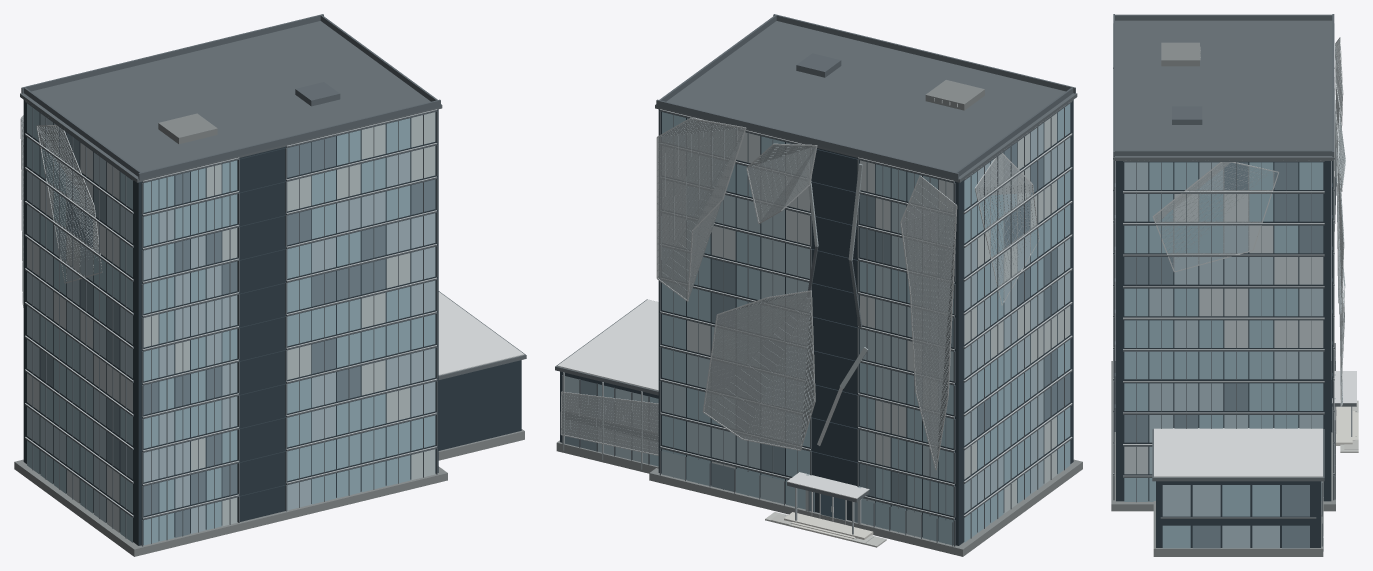
File: kwara_revenue_house.glb
The picture shows the model from 3 angles, left to right: view 1: azimuth 30°, elevation 25°; view 2: azimuth 150°, elevation 25°; view 3: azimuth 270°, elevation 25°; orthographic projection. The views are drawn at different scales.
Parts seen in each view (by area): view 1: structure_roof_slab__roof, structure_tower_core__core, window_rear_right_curtainwall__glass_blue, core_rear_recess__core, window_rear_left_curtainwall__glass_blue, window_west_curtainwall__glass_blue, window_rear_right_curtainwall__glass_mid, window_west_curtainwall__glass_mid, window_rear_left_curtainwall__glass_mid, window_rear_right_curtainwall__glass_light, window_rear_right_curtainwall__glass_dark, window_west_curtainwall__glass_light (+22 smaller); view 2: structure_roof_slab__roof, structure_tower_core__core, roof_detail_lower_center_right_screen_faceted_skin__screen_s, core_front_recess__core, window_west_curtainwall__glass_blue, window_front_right_curtainwall__glass_blue, window_front_right_curtainwall__glass_mid, window_west_curtainwall__glass_mid, roof_detail_upper_right_screen_faceted_skin__screen_skin, roof_detail_left_outer_screen_faceted_skin__screen_skin, window_front_left_curtainwall__glass_blue, trim_left_outer_screen_lattice__steel_dark (+45 smaller); view 3: structure_roof_slab__roof, window_east_curtainwall__glass_blue, structure_tower_core__core, window_east_curtainwall__glass_mid, trim_podium_roof_silver_edge__steel_light, window_east_curtainwall__glass_light, window_east_curtainwall__glass_dark, trim_east_floor_band__graphite, structure_east_podium__core, window_podium_side_glazing__glass_mid, window_podium_side_glazing__glass_blue, trim_east_floor_flash__steel (+25 smaller).
Part boxes in pixels (box(x1,y1,x2,y2)): structure_roof_slab__roof: box(20, 21, 442, 182); structure_tower_core__core: box(23, 100, 438, 545); window_rear_right_curtainwall__glass_blue: box(287, 118, 435, 504); core_rear_recess__core: box(237, 148, 285, 522); window_rear_left_curtainwall__glass_blue: box(143, 160, 237, 545); window_west_curtainwall__glass_blue: box(27, 103, 132, 542); window_rear_right_curtainwall__glass_mid: box(287, 152, 435, 510); window_west_curtainwall__glass_mid: box(27, 113, 132, 522); window_rear_left_curtainwall__glass_mid: box(143, 209, 237, 533); window_rear_right_curtainwall__glass_light: box(287, 112, 435, 480); window_rear_right_curtainwall__glass_dark: box(287, 136, 435, 401); window_west_curtainwall__glass_light: box(27, 142, 132, 532); structure_roof_slab__roof: box(655, 21, 1077, 182); structure_tower_core__core: box(658, 100, 1073, 545); roof_detail_lower_center_right_screen_faceted_skin__screen_s: box(704, 292, 814, 449); core_front_recess__core: box(812, 148, 859, 486); window_west_curtainwall__glass_blue: box(964, 103, 1070, 542); window_front_right_curtainwall__glass_blue: box(662, 112, 809, 480); window_front_right_curtainwall__glass_mid: box(662, 118, 809, 481); window_west_curtainwall__glass_mid: box(964, 123, 1070, 512); roof_detail_upper_right_screen_faceted_skin__screen_skin: box(658, 119, 744, 299); roof_detail_left_outer_screen_faceted_skin__screen_skin: box(901, 177, 955, 465); window_front_left_curtainwall__glass_blue: box(860, 164, 953, 545); trim_left_outer_screen_lattice__steel_dark: box(902, 181, 955, 465); structure_roof_slab__roof: box(1113, 20, 1333, 160); window_east_curtainwall__glass_blue: box(1124, 162, 1323, 501); structure_tower_core__core: box(1116, 161, 1331, 501); window_east_curtainwall__glass_mid: box(1124, 162, 1323, 474); trim_podium_roof_silver_edge__steel_light: box(1154, 428, 1322, 477); window_east_curtainwall__glass_light: box(1124, 194, 1323, 474); window_east_curtainwall__glass_dark: box(1124, 162, 1323, 442); trim_east_floor_band__graphite: box(1123, 161, 1324, 477); structure_east_podium__core: box(1156, 481, 1320, 547); window_podium_side_glazing__glass_mid: box(1162, 485, 1279, 548); window_podium_side_glazing__glass_blue: box(1162, 485, 1279, 548); trim_east_floor_flash__steel: box(1123, 160, 1324, 476).
Size of what is drawn, in the model's own units: 48.85 by 43.08 by 26.95.
